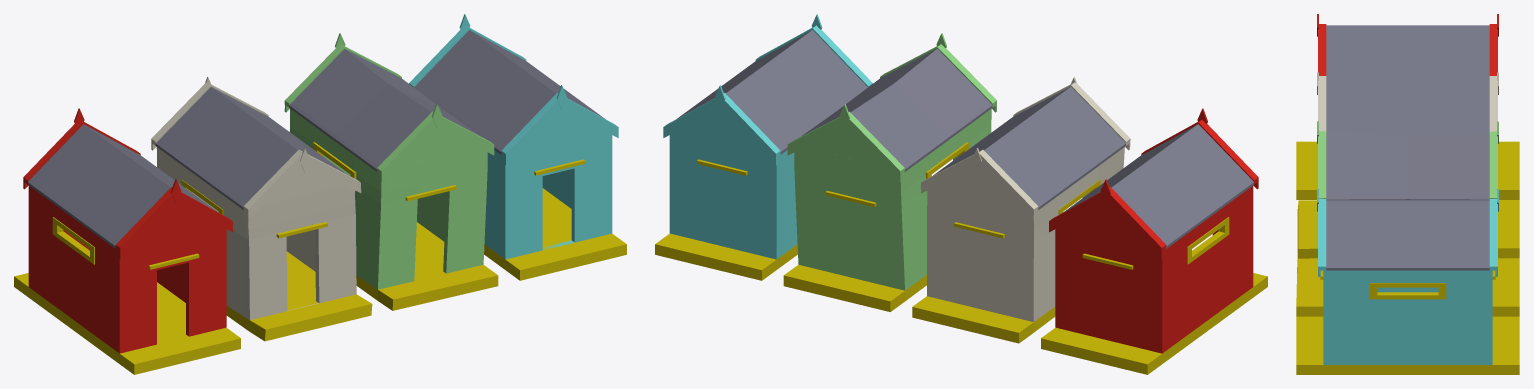
Rendered from beachhut.fbx.
3 renders of one model, left to right at view 1: azimuth 30°, elevation 25°; view 2: azimuth 150°, elevation 25°; view 3: azimuth 270°, elevation 25°, orthographic. The views are drawn at different scales.
Visible parts, largest first — view 1: Plane.001, Plane.003, Plane.002, Plane.005, Plane.004; view 2: Plane.001, Plane.003, Plane.002, Plane.005; view 3: Plane.005, Plane.003, Plane.002, Plane.001.
Part boxes in pixels (bbox=[...]): Plane.001: bbox=[14, 77, 456, 374]; Plane.003: bbox=[284, 33, 498, 310]; Plane.002: bbox=[151, 82, 372, 341]; Plane.005: bbox=[409, 14, 626, 280]; Plane.004: bbox=[505, 86, 626, 280]; Plane.001: bbox=[825, 77, 1267, 374]; Plane.003: bbox=[783, 33, 996, 311]; Plane.002: bbox=[912, 82, 1130, 343]; Plane.005: bbox=[655, 14, 872, 280]; Plane.005: bbox=[1296, 189, 1519, 374]; Plane.003: bbox=[1296, 121, 1519, 316]; Plane.002: bbox=[1297, 76, 1519, 258]; Plane.001: bbox=[1296, 14, 1519, 199].
Bounding box in the file's own units: 667 × 238 × 279.
